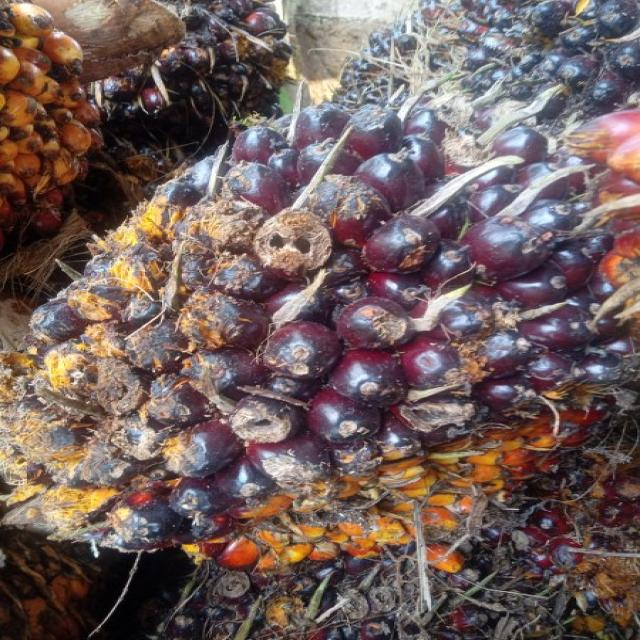fraksi 1: (14, 108, 631, 568)
